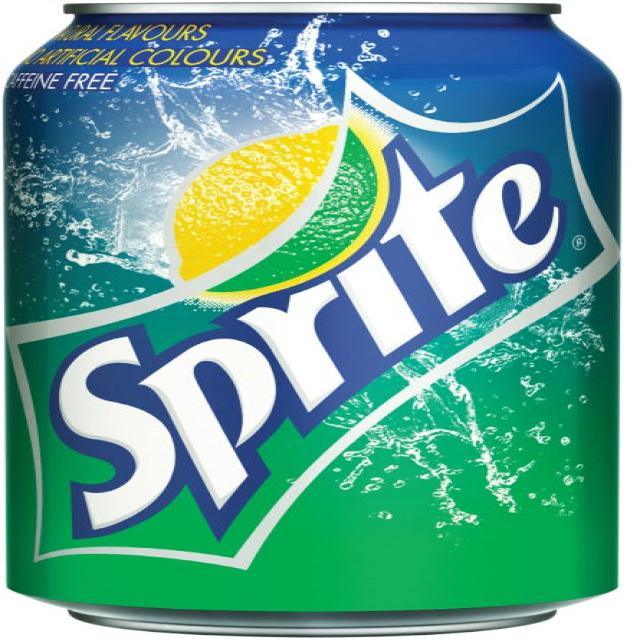sprite: (7, 3, 633, 636)
